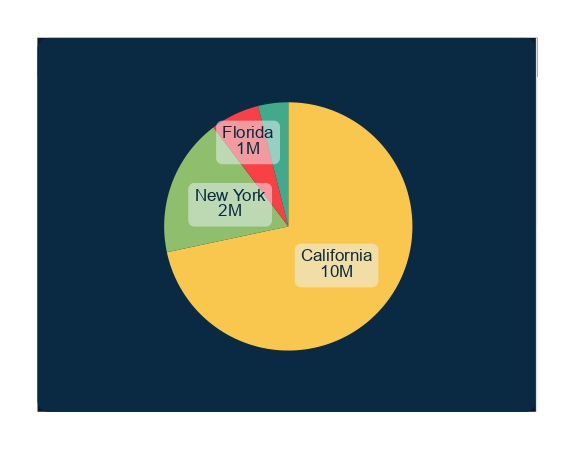

Layout of this report page (visuals, bound fields, positions):
{"tool":"powerbi","page":{"name":"Tooltip","canvas":[320,240],"ordinal":1},"visuals":[{"type":"pieChart","fields":{"Category":["Customer_Bank_Details.State"],"Y":["Sum(Customer_Bank_Details.Balance Amount)"]},"box":[0,0,320,240],"z":0}]}

Visuals, with their boxes on the page's 320x240 design canvas (x1, y1, x2, y2). These are canvas units, not pixel positions in the 575x450 screenshot, which may show the page scaled, cropped or inside an application window:
pieChart - Customer_Bank_Details.State x Sum(Customer_Bank_Details.Balance Amount): 0:0:320:240
